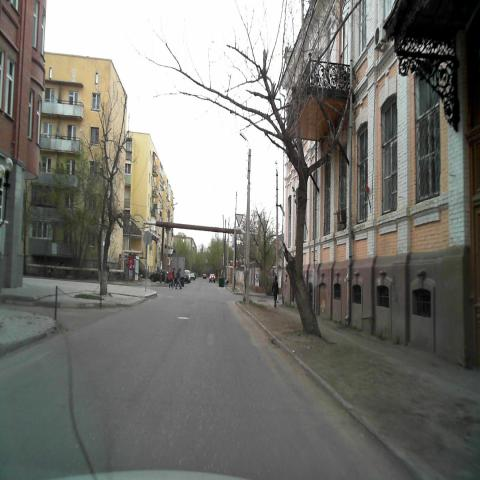2_4: (234, 212, 244, 228)
